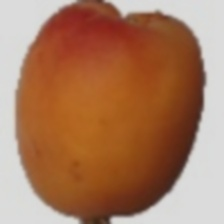apricot: (59, 36, 196, 193)
